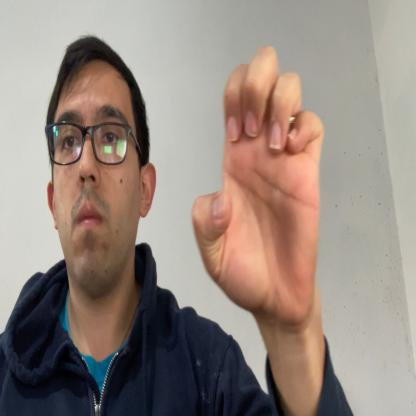E: (192, 44, 325, 328)
